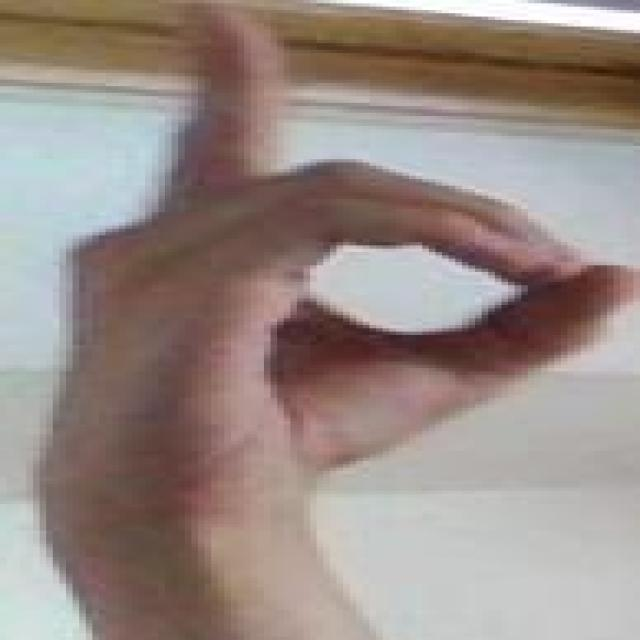D1: (21, 2, 640, 548)
